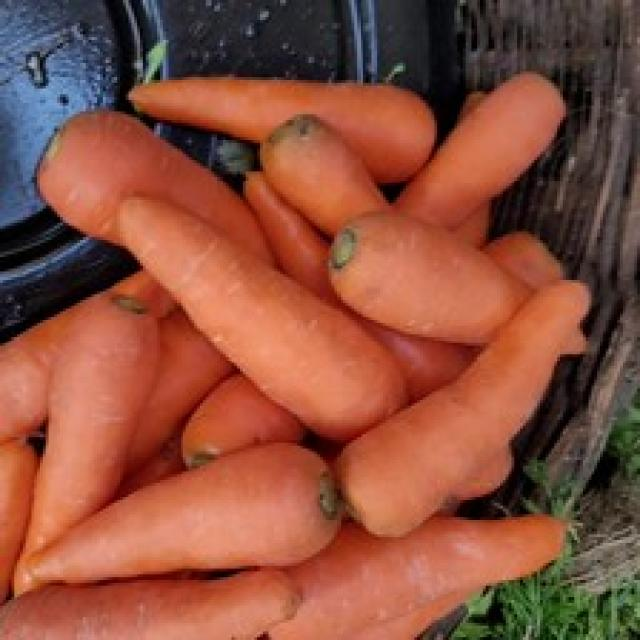Fresh_Carrot: (100, 194, 402, 420), (333, 288, 597, 522), (41, 441, 340, 576), (53, 278, 164, 598), (32, 95, 254, 253), (331, 212, 561, 356)
